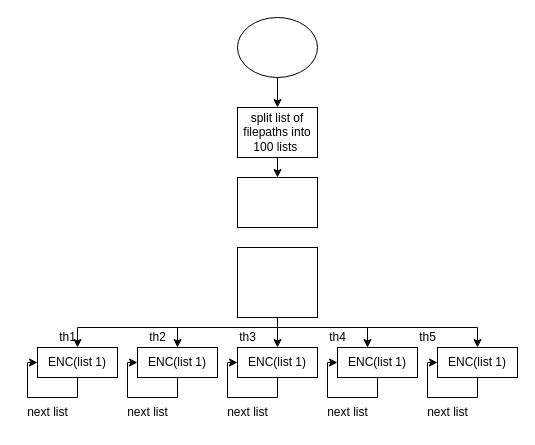
The diagram is 535 pixels wide and 445 high, and some of its shapes have lost their labels. Here are the shapes that lost their labels. From the top down, the centre of each, then its label:
the point at 277,47: start
the point at 277,202: scan system for system specs
the point at 277,282: create encryption threads based on system specs
